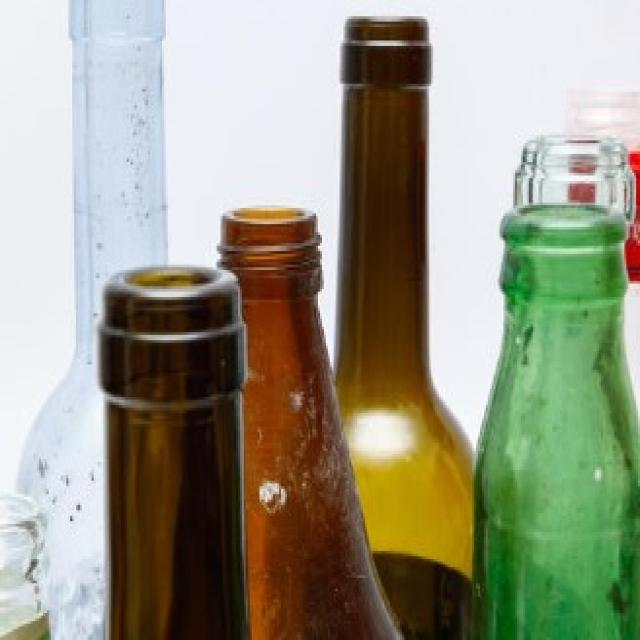electronic: (14, 2, 640, 639)
